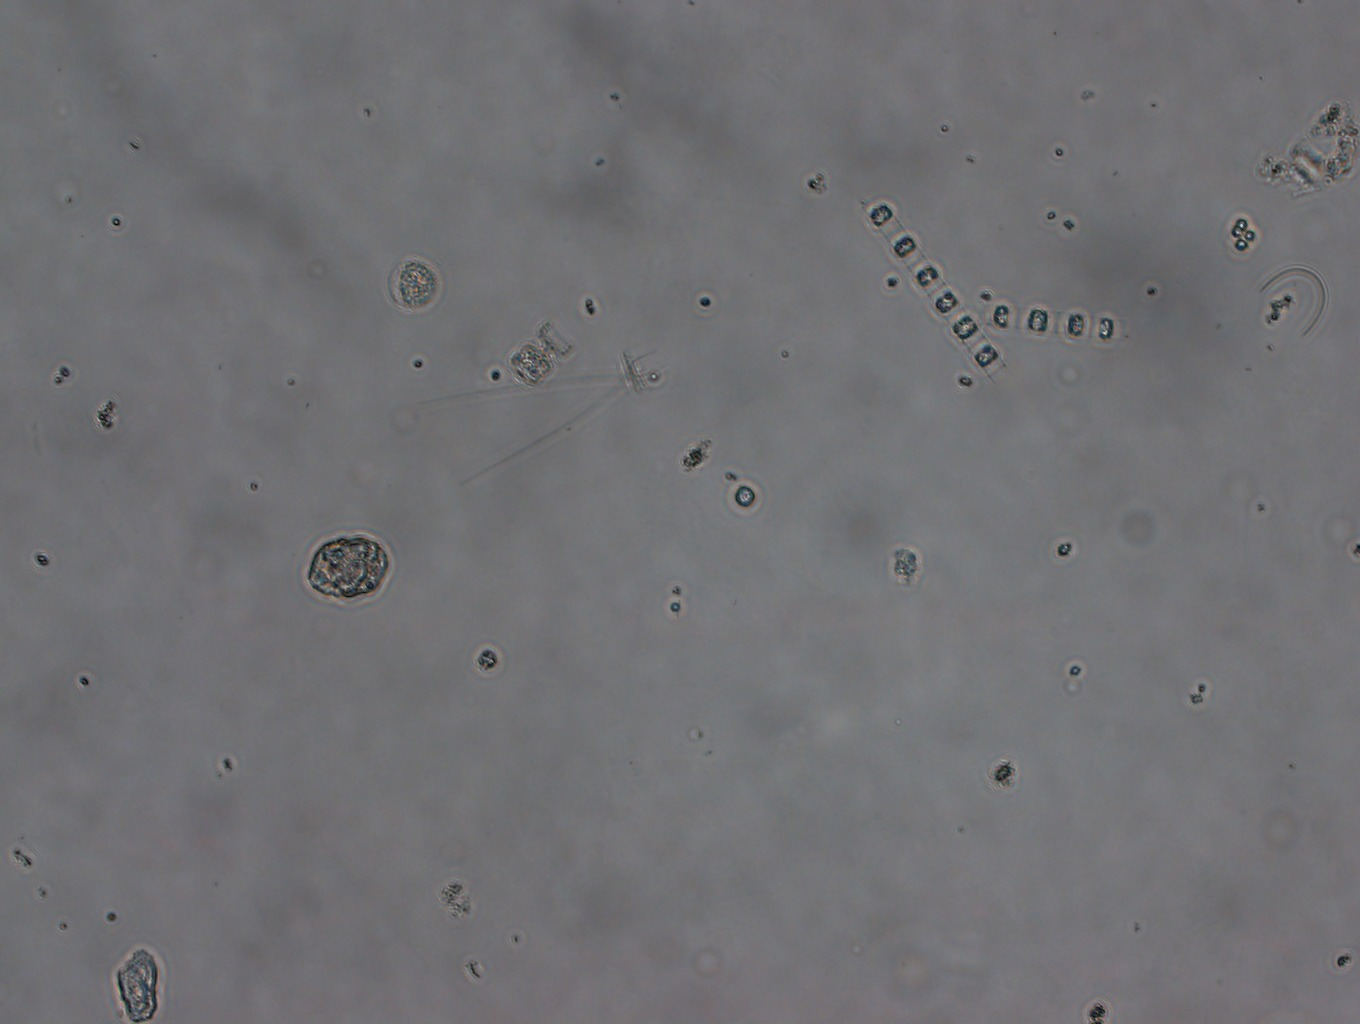skeletonema: (858, 187, 1016, 389), (980, 296, 1121, 346)
